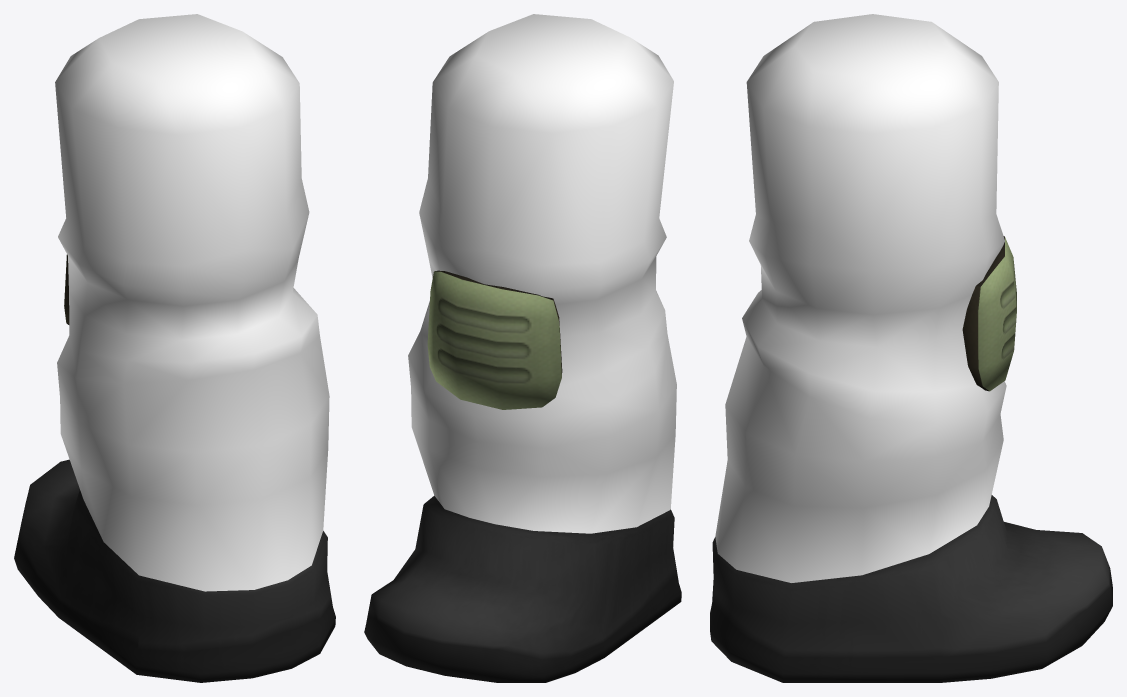
3 renders of one model, left to right at view 1: azimuth 30°, elevation 25°; view 2: azimuth 150°, elevation 25°; view 3: azimuth 270°, elevation 25°, orthographic. The views are drawn at different scales.
Visible parts, largest first — view 1: Mesh; view 2: Mesh; view 3: Mesh.
Part boxes in pixels (box(x1,y1,x2,y2)): Mesh: box(14, 14, 335, 682); Mesh: box(364, 14, 681, 682); Mesh: box(710, 14, 1112, 682).
Bounding box in the file's own units: 0.9131 × 2.13 × 1.34.
